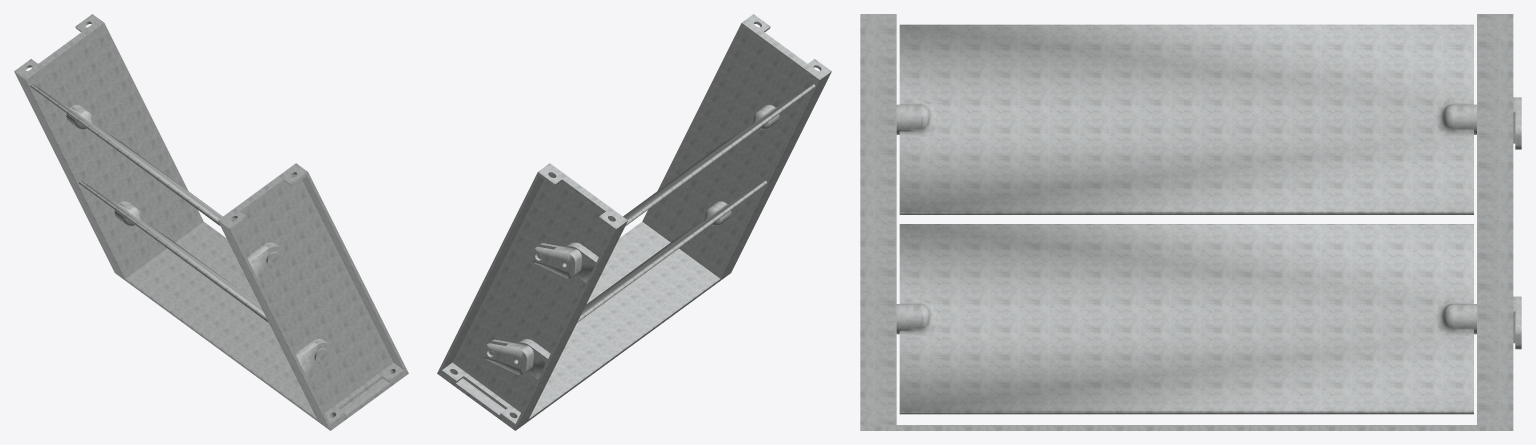
Rendered from ceban.glb.
3 renders of one model, left to right at view 1: azimuth 30°, elevation 25°; view 2: azimuth 150°, elevation 25°; view 3: azimuth 270°, elevation 25°, orthographic. The views are drawn at different scales.
Parts seen in each view (by area): view 1: 零件几何体_363, 零件几何体_362, 零件几何体_366, 零件几何体_365, 零件几何体_364; view 2: 零件几何体_362, 零件几何体_363, 零件几何体_366, 零件几何体_365, 零件几何体_364, 零件几何体_368, 零件几何体_367; view 3: 零件几何体_364, 零件几何体_365, 零件几何体_362, 零件几何体_363, 零件几何体_366.
Boxes of the visible parts, left/top/right/bottom form: 零件几何体_363: left=218, top=163, right=407, bottom=427; 零件几何体_362: left=14, top=14, right=203, bottom=278; 零件几何体_366: left=113, top=221, right=408, bottom=430; 零件几何体_365: left=30, top=84, right=281, bottom=267; 零件几何体_364: left=78, top=180, right=329, bottom=363; 零件几何体_362: left=438, top=163, right=627, bottom=427; 零件几何体_363: left=642, top=14, right=831, bottom=278; 零件几何体_366: left=437, top=221, right=732, bottom=430; 零件几何体_365: left=559, top=84, right=815, bottom=271; 零件几何体_364: left=511, top=180, right=767, bottom=367; 零件几何体_368: left=483, top=339, right=533, bottom=375; 零件几何体_367: left=531, top=243, right=581, bottom=278; 零件几何体_364: left=896, top=224, right=1476, bottom=414; 零件几何体_365: left=896, top=24, right=1476, bottom=214; 零件几何体_362: left=1477, top=14, right=1513, bottom=424; 零件几何体_363: left=860, top=14, right=896, bottom=424; 零件几何体_366: left=860, top=425, right=1513, bottom=430.
Bounding box in the file's own units: 0.1036 × 0.1462 × 0.2188.
1 material, 1 textured.
